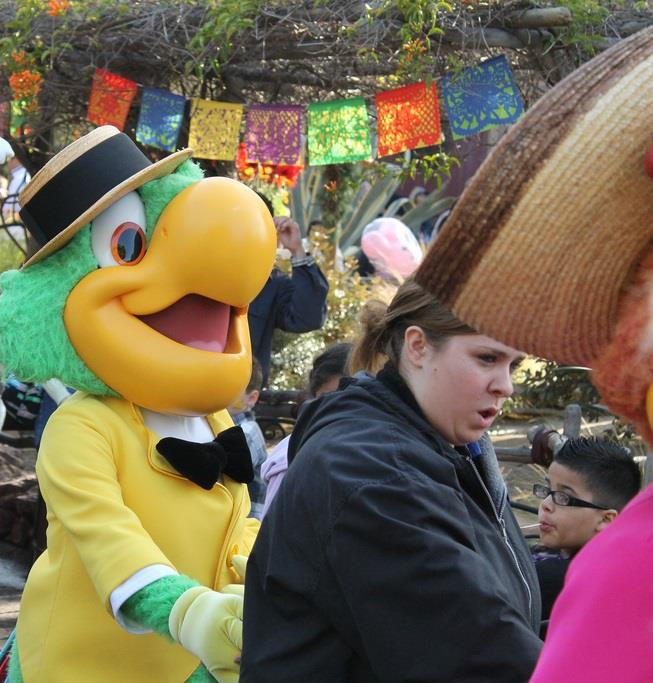Jose_Carioca: (14, 141, 272, 672)
